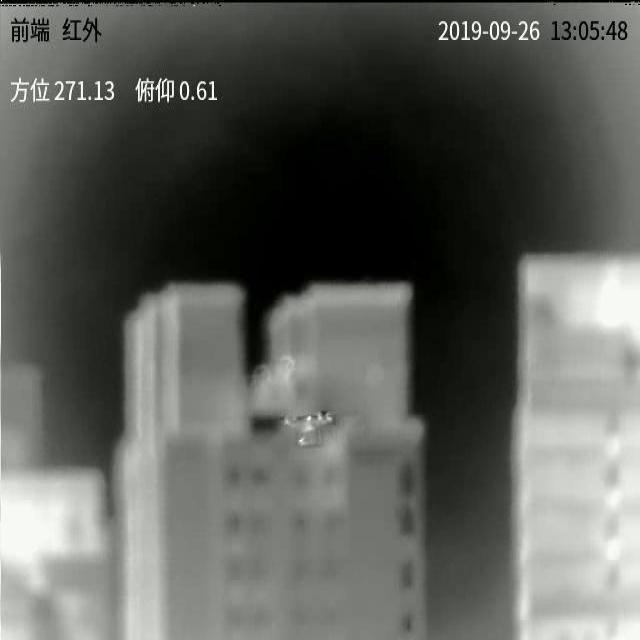drone: (280, 412, 338, 448)
